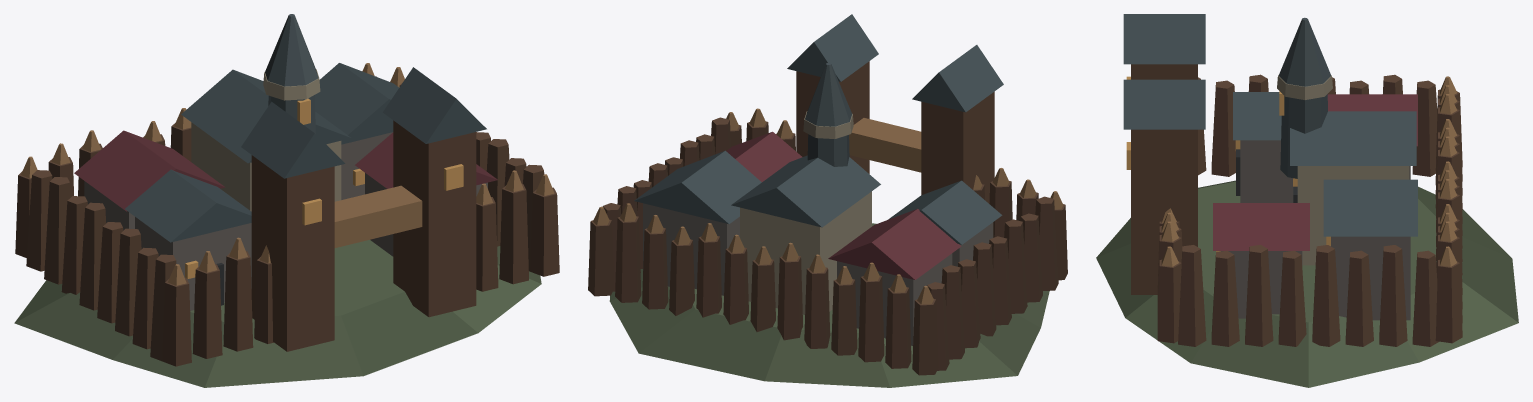
File: vallaki.glb
The picture shows the model from 3 angles, left to right: view 1: azimuth 30°, elevation 25°; view 2: azimuth 150°, elevation 25°; view 3: azimuth 270°, elevation 25°; orthographic projection. The views are drawn at different scales.
Visible parts, largest first — view 1: Vallaki · atlas landmark; view 2: Vallaki · atlas landmark; view 3: Vallaki · atlas landmark.
Part boxes in pixels (x1,y1,x2,y2): Vallaki · atlas landmark: (14,14,559,387); Vallaki · atlas landmark: (588,14,1067,387); Vallaki · atlas landmark: (1096,14,1518,387).
Size of the model in its own units: 2.15 by 1.2 by 1.7.
